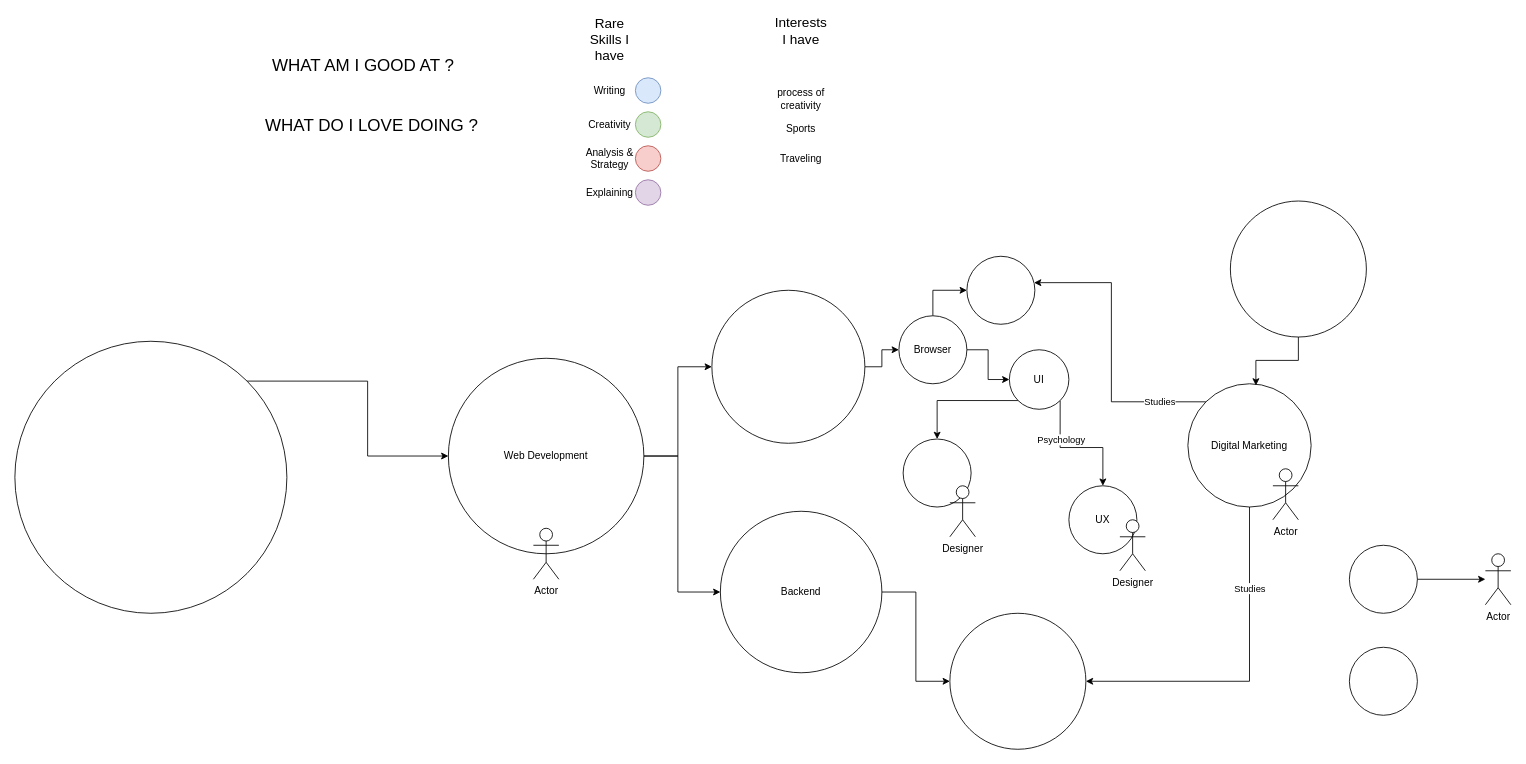
Some shapes in this 1526 by 764 pixel diagram are drawn without their labels. The shapes that lost their labels are listed below. From the top down, each one's centre as x and y in pixels, then its label:
point (1298, 268): E-commerce
point (1000, 289): SEO
point (788, 366): Frontend
point (150, 476): IT
point (936, 472): Graphic Design
point (1017, 680): Algorithm
